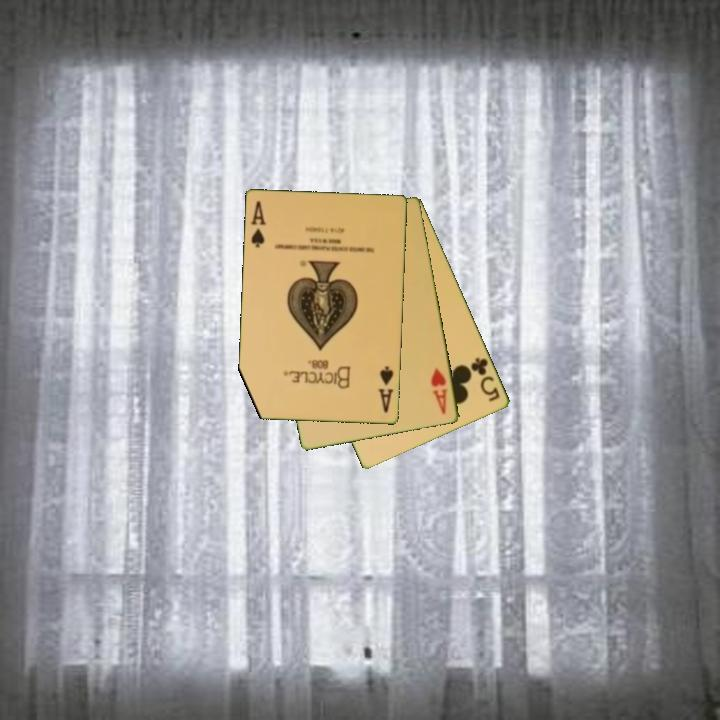5c: (467, 354, 503, 405)
Ah: (427, 365, 450, 417)
As: (375, 363, 397, 416), (248, 198, 269, 251)
